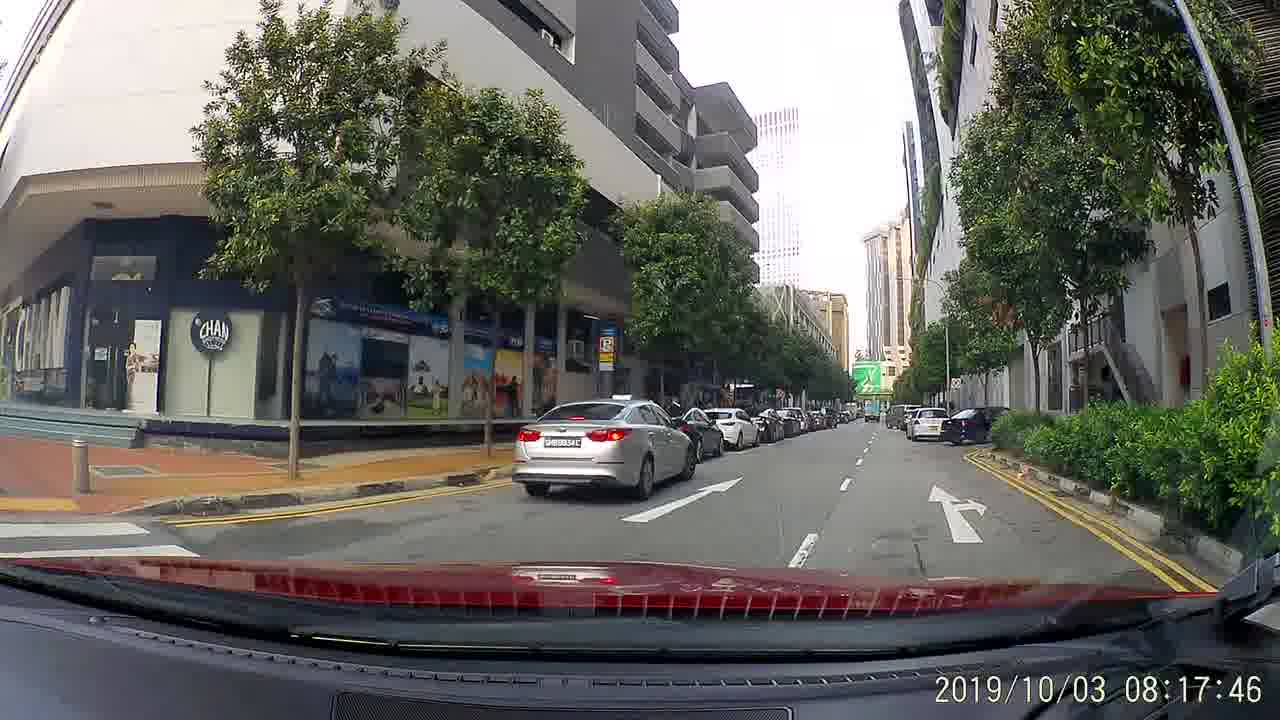car: (508, 392, 695, 506), (652, 401, 727, 463), (944, 400, 1022, 444), (697, 406, 760, 448), (903, 406, 953, 443), (748, 407, 785, 443)
